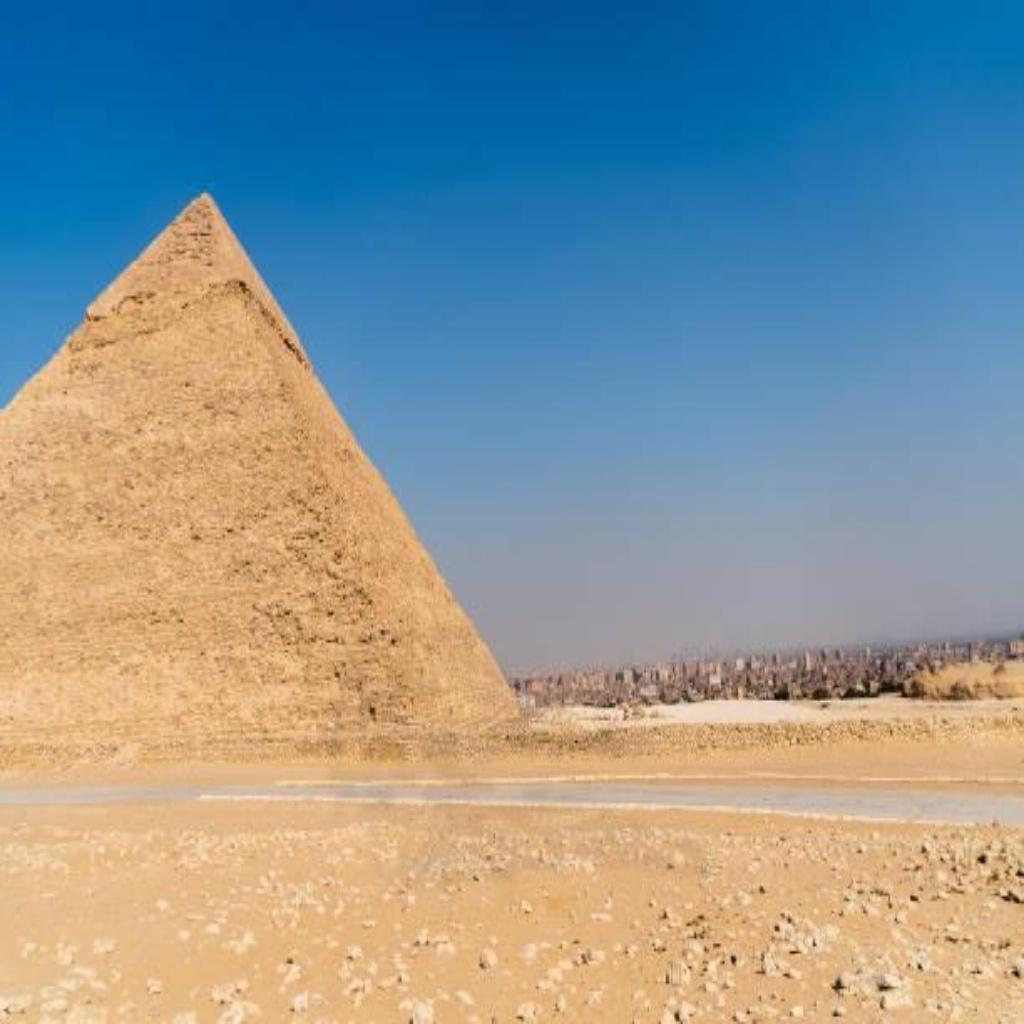Great Pyramids of Giza: (0, 186, 522, 776)
